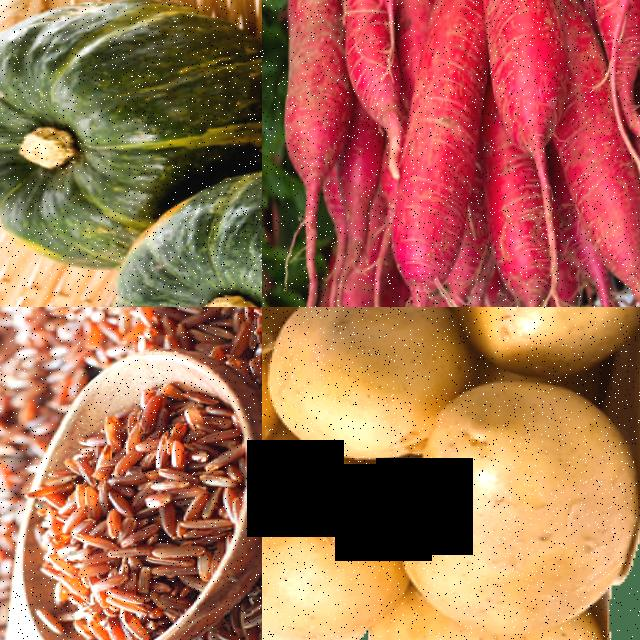potato: (405, 403, 640, 638), (269, 307, 457, 460), (262, 471, 393, 640), (450, 307, 640, 372)
pumpkin: (0, 5, 166, 258), (108, 195, 262, 307)
radishes: (381, 0, 481, 307), (276, 0, 347, 194), (477, 0, 561, 162)
red rice: (30, 397, 237, 640), (48, 307, 262, 351)
